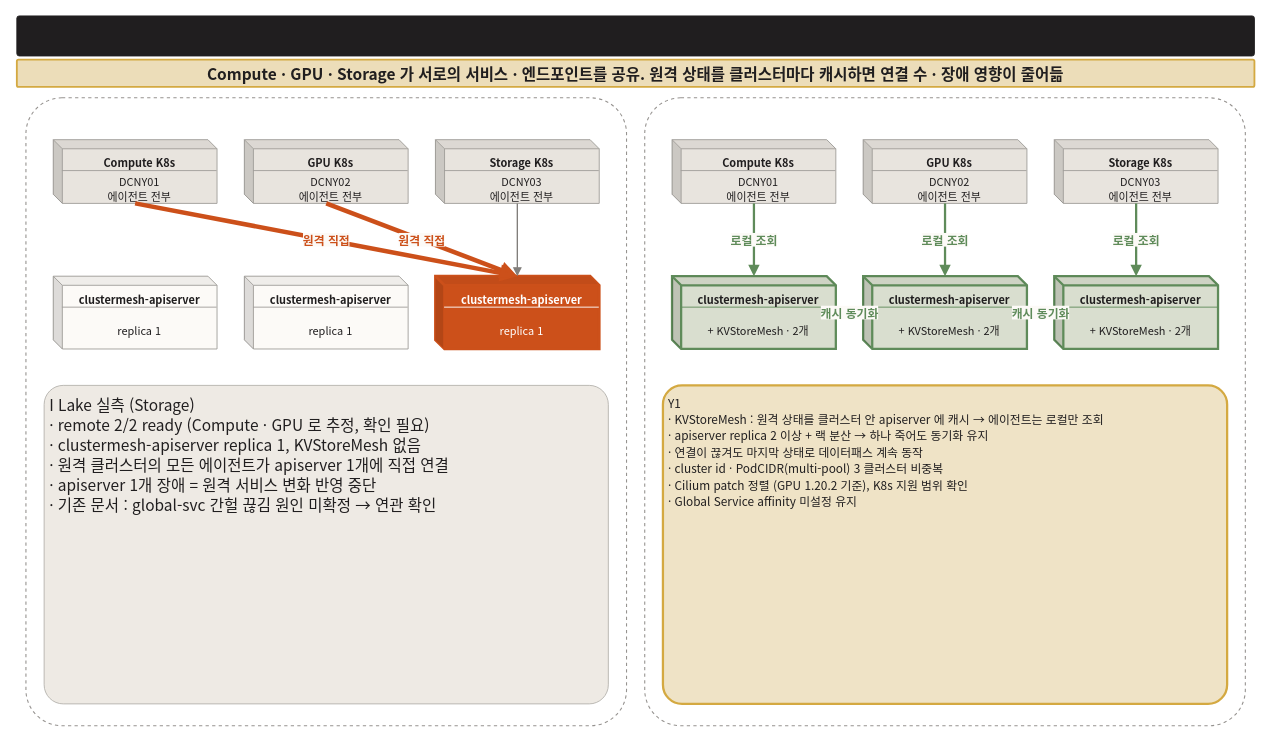
Some shapes in this 1270 by 743 pixel diagram are drawn without their labels. Here are the shapes that lost their labels. From the top down, the box of each, then its label:
(16, 15, 1254, 56): 그림 7-1. ClusterMesh 3 클러스터 : apiserver 1개 직접 연결 → KVStoreMesh + HA
(25, 97, 627, 726): I Lake : 원격 에이전트가 apiserver 에 직접 (replica 1 · KVStoreMesh 없음)
(644, 97, 1245, 726): Y1 : 클러스터마다 apiserver + KVStoreMesh (replica 2)
